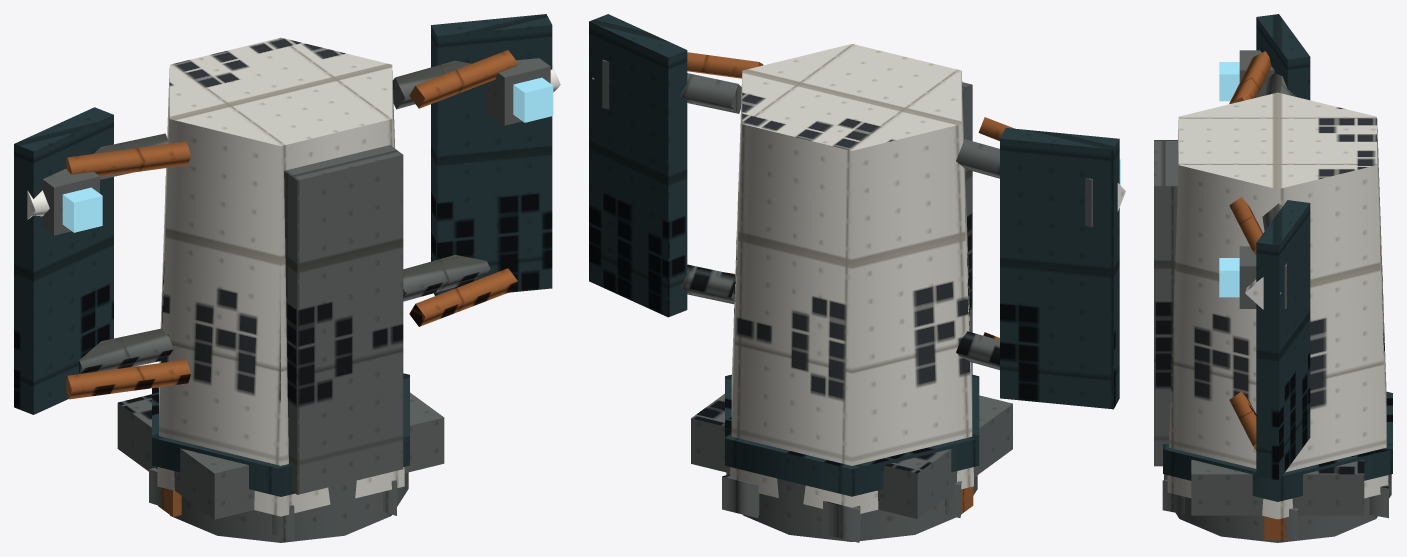
The model's file is section_radiator_wing.glb.
3 views of the same model, side by side, from view 1: azimuth 30°, elevation 25°; view 2: azimuth 150°, elevation 25°; view 3: azimuth 270°, elevation 25° (orthographic). The views are drawn at different scales.
Parts seen in each view (by area): view 1: merged-646a6c, merged-ededea, merged-263c43, merged-a56233, merged-a3e9ff; view 2: merged-ededea, merged-263c43, merged-646a6c, merged-a56233; view 3: merged-ededea, merged-263c43, merged-646a6c, merged-a56233, merged-a3e9ff, merged-171b1e.
Boxes of the visible parts, box(x1,y1,x2,y2) form: merged-646a6c: box(42, 58, 550, 542); merged-ededea: box(157, 37, 404, 516); merged-263c43: box(14, 14, 552, 496); merged-a56233: box(66, 50, 517, 516); merged-a3e9ff: box(62, 77, 553, 232); merged-ededea: box(730, 44, 973, 513); merged-263c43: box(589, 14, 1119, 496); merged-646a6c: box(602, 59, 1092, 542); merged-a56233: box(687, 52, 1014, 513); merged-ededea: box(1167, 92, 1387, 519); merged-263c43: box(1163, 14, 1392, 501); merged-646a6c: box(1154, 50, 1391, 542); merged-a56233: box(1229, 51, 1291, 539); merged-a3e9ff: box(1219, 62, 1239, 297); merged-171b1e: box(1245, 277, 1281, 309).
Size of the model in its own units: 6.03 by 4.43 by 2.62.
Materials: 6 (5 with a texture image).
